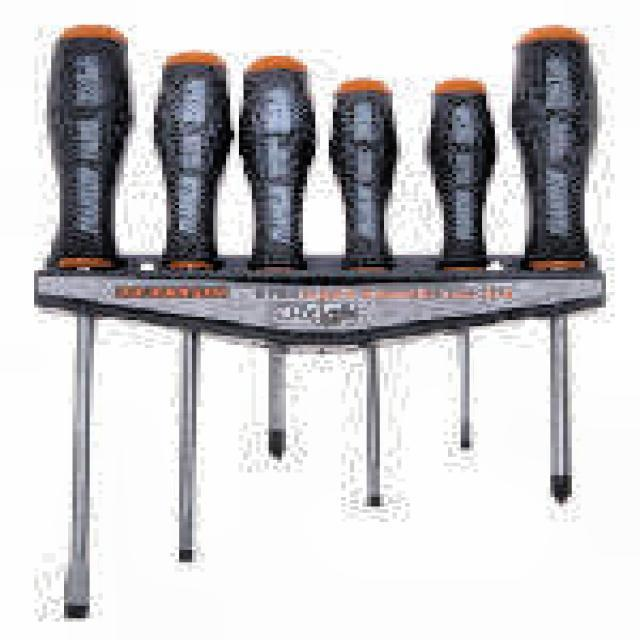screwdriver: (44, 24, 131, 618), (508, 26, 602, 507), (152, 51, 235, 562), (327, 76, 402, 506), (239, 56, 318, 460), (423, 79, 498, 448)
